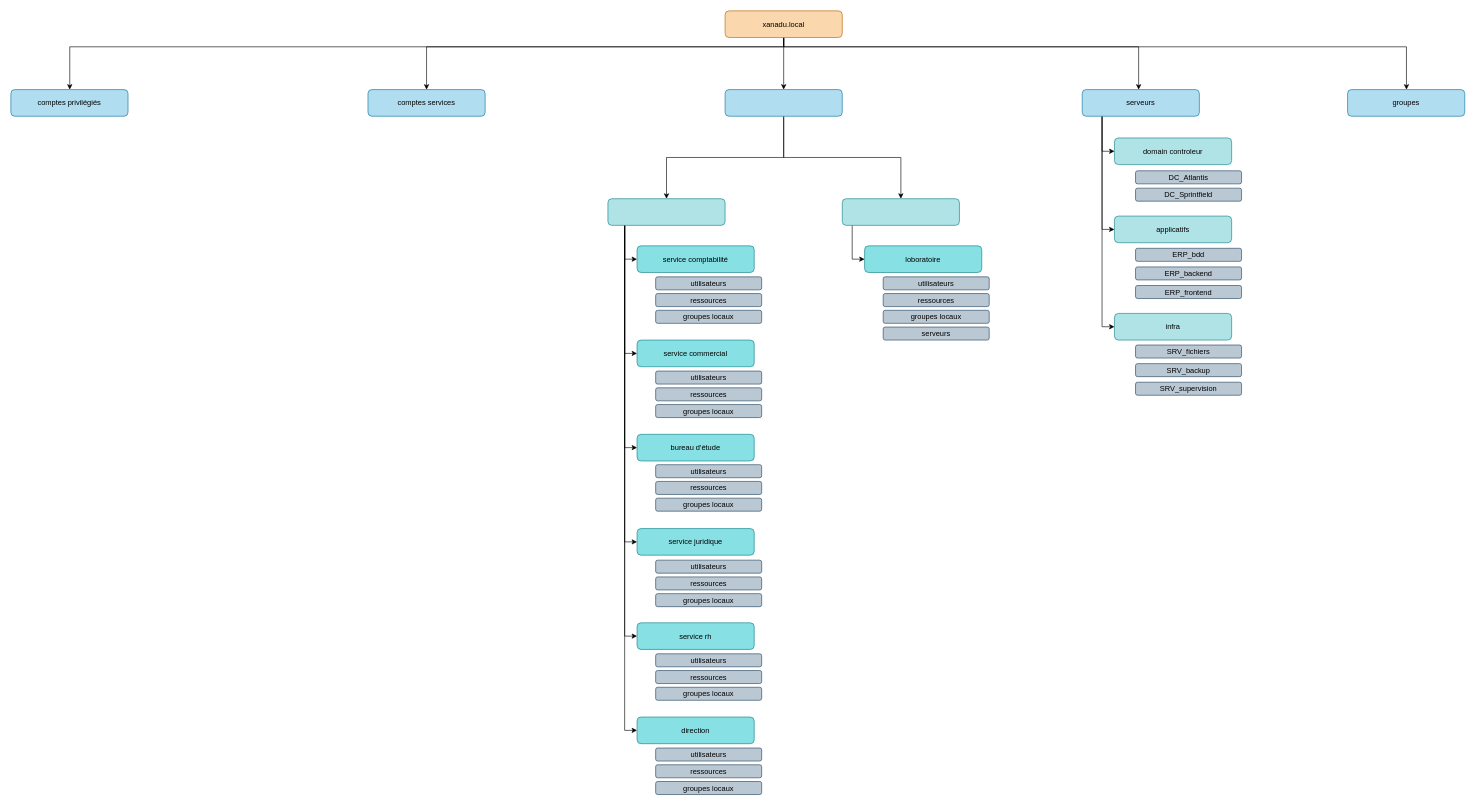
Some shapes in this 1476 by 805 pixel diagram are drawn without their labels. The box of each missing label's shape, as (x1, y1, x2, y2) in pixels:
atlantis: (607, 198, 725, 225)
sites: (724, 89, 842, 116)
sprintfield: (842, 198, 959, 225)
